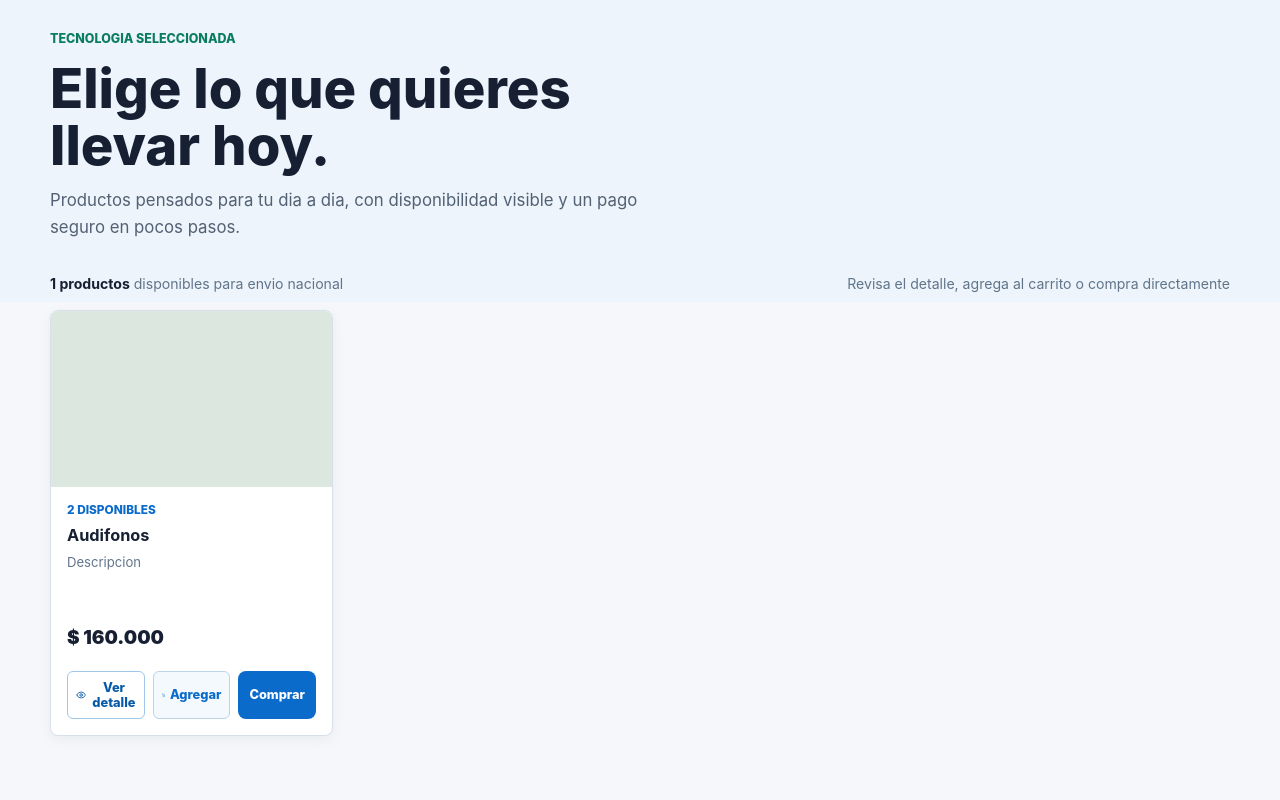
it: ProductPage › adds a catalog product to the persistent cart
(page scrolled)
Click the button with class "cart-add-button" at [192, 694], box [153, 670, 230, 718]
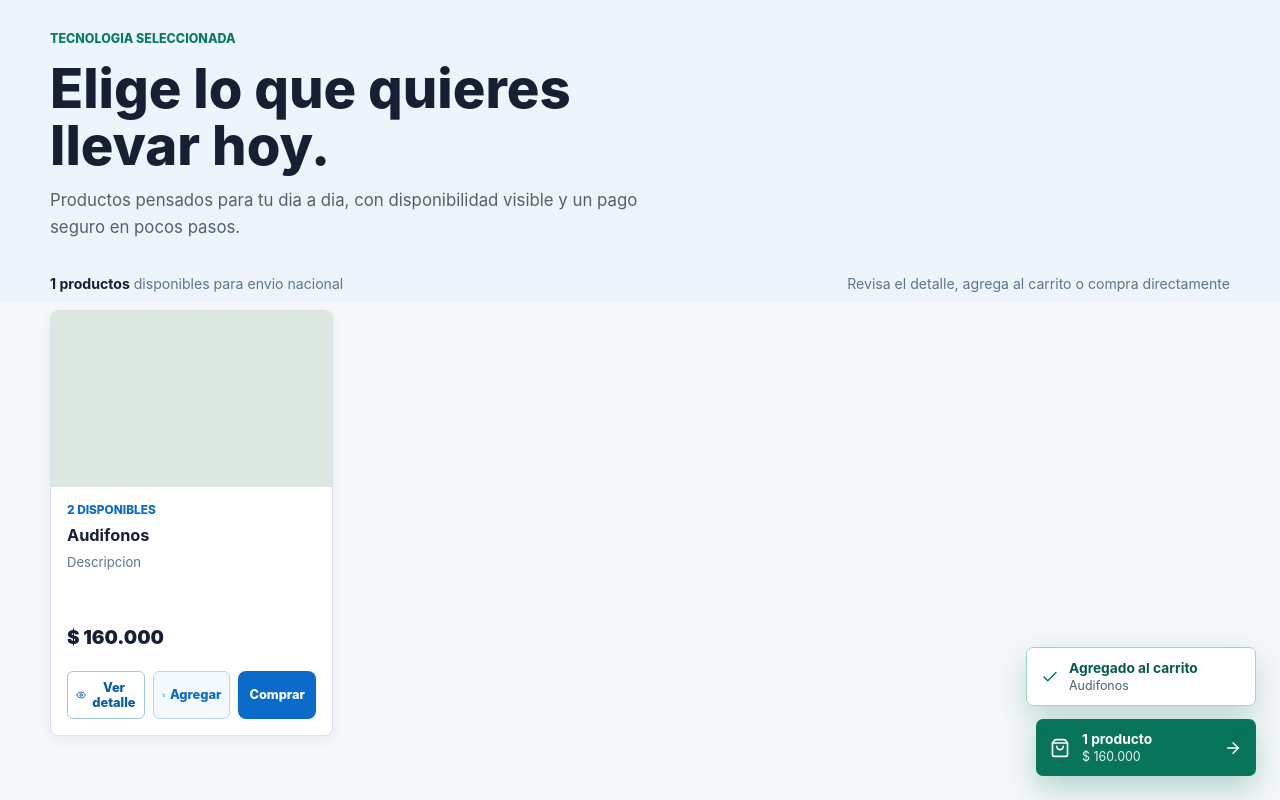
Expected: the button with class "cart-quick-view" shows "1 producto", [1036, 719, 1256, 776]
Expected: the message with class "cart-feedback" shows "Audifonos", [1069, 678, 1129, 693]
